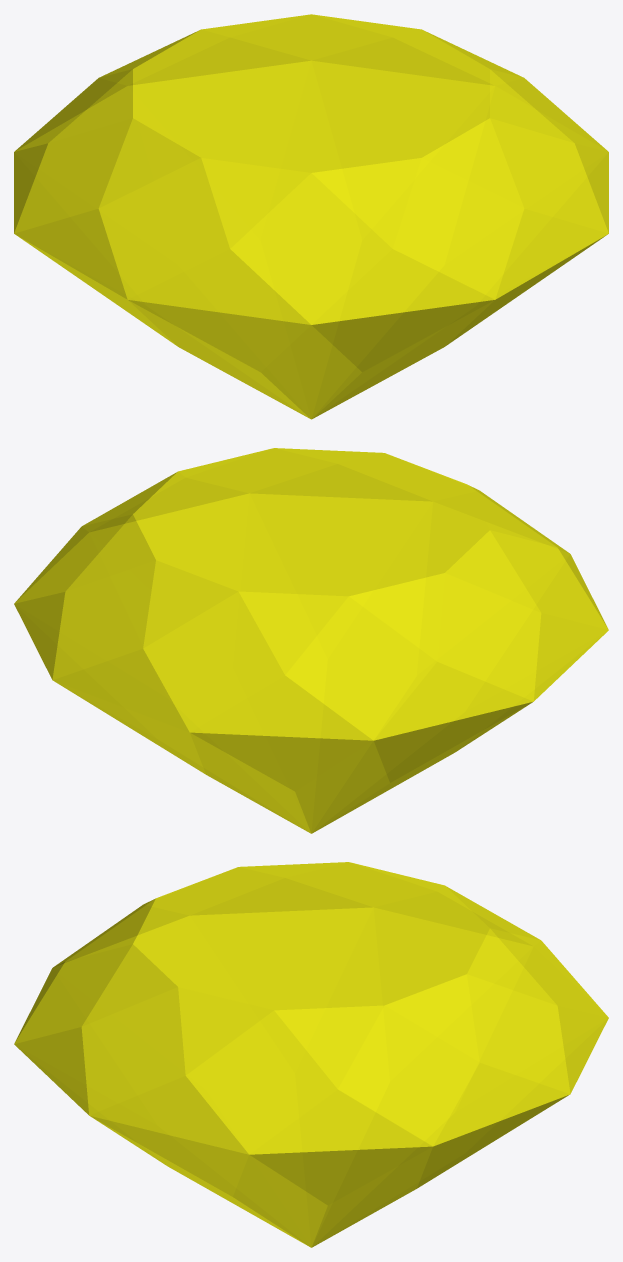
Rendered from GemaAmarilla.fbx.
The picture shows the model from 3 angles, top to bottom: view 1: azimuth 30°, elevation 25°; view 2: azimuth 150°, elevation 25°; view 3: azimuth 270°, elevation 25°; orthographic projection. The views are drawn at different scales.
Visible parts, largest first — view 1: Gem.006; view 2: Gem.006; view 3: Gem.006.
Boxes of the visible parts, x1,y1,x2,y2 form: Gem.006: [14, 14, 608, 419]; Gem.006: [14, 448, 608, 833]; Gem.006: [14, 862, 608, 1247].
Size of the model in its own units: 196 by 115 by 199.
